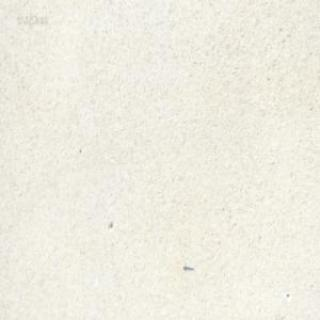Nailtrack_idkeyframe: (182, 261, 193, 269)
